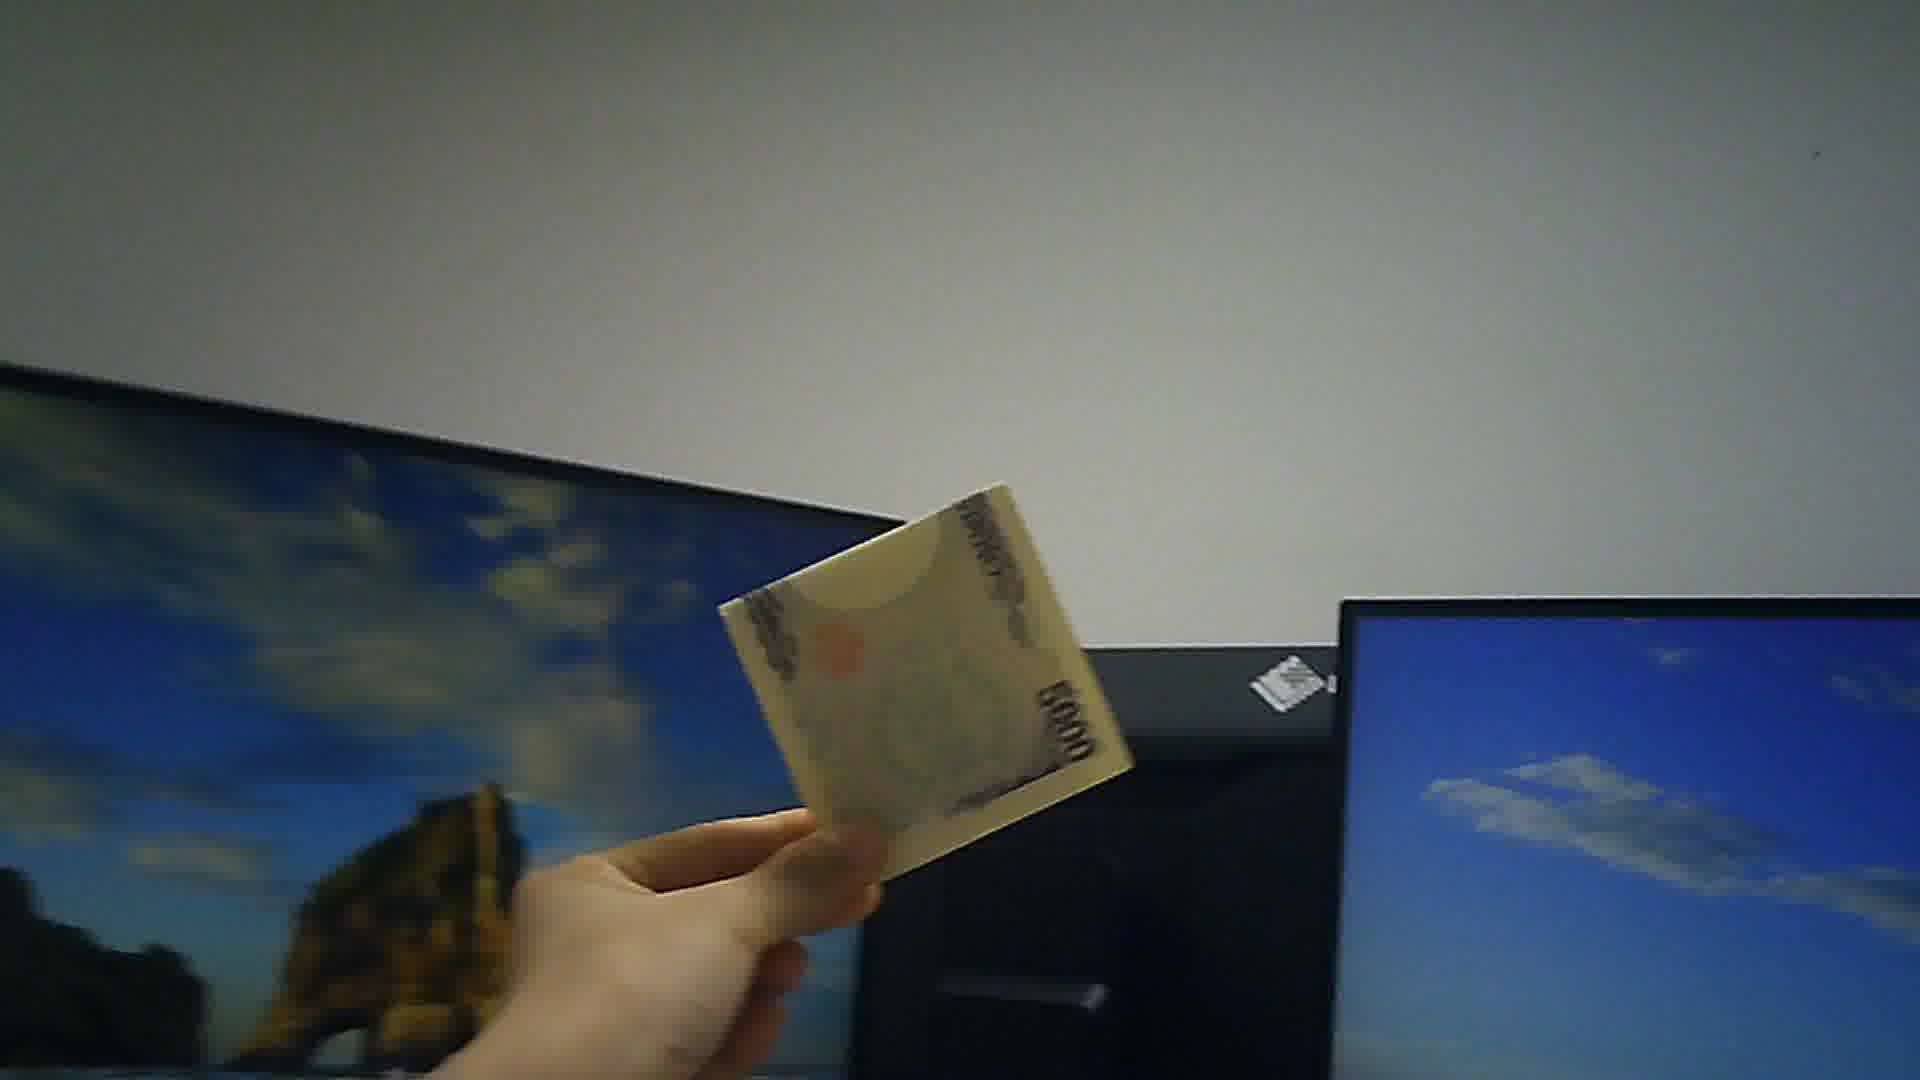5,000 Yen: (717, 462, 1139, 895)
